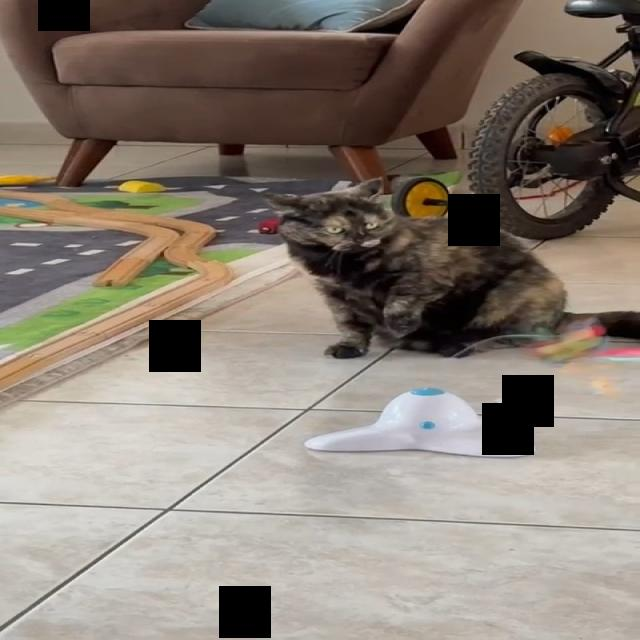authorized: (261, 176, 639, 359)
